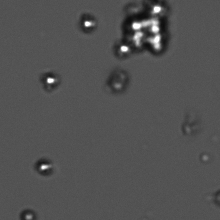Dead Cell: (103, 65, 132, 93), (180, 111, 203, 136)
Living Cell: (76, 11, 99, 34), (39, 69, 59, 90), (34, 157, 54, 175), (148, 20, 168, 38), (114, 39, 133, 56), (147, 2, 166, 18), (127, 18, 146, 33)
